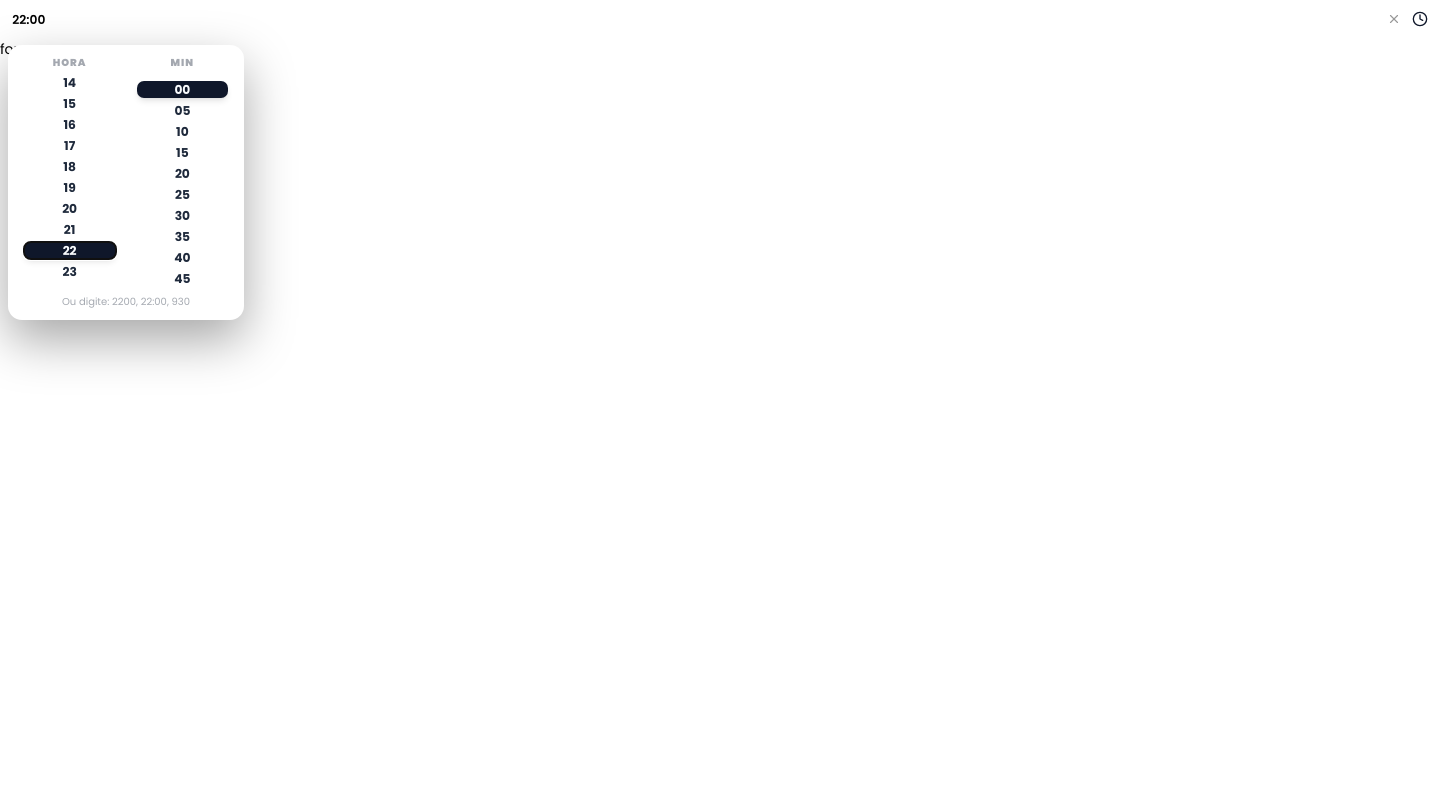
Scenario: TimePicker › escolhe hora e minuto no popup
Earlier steps of the test are not shown.
(page scrolled)
Click the button named "30 minutos": (182, 215) [136,206,228,224]
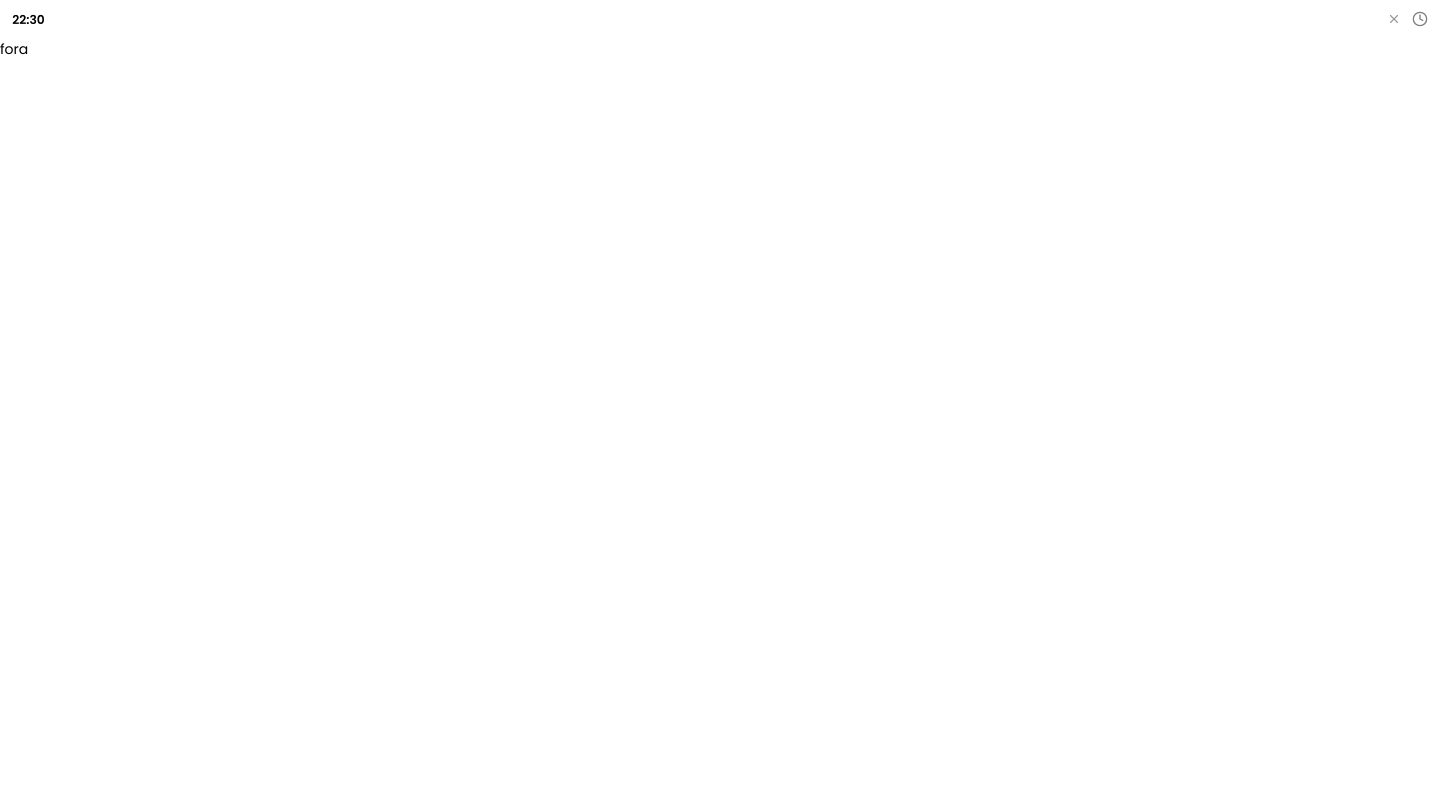
Expected: the dialog is gone
Expected: the field named "Início" holds "22:30", [0,0,1384,38]
